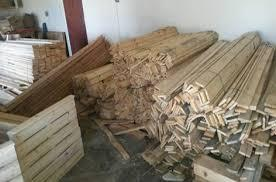wood: (121, 27, 275, 176), (6, 32, 114, 122), (11, 92, 75, 180), (3, 39, 71, 82)
